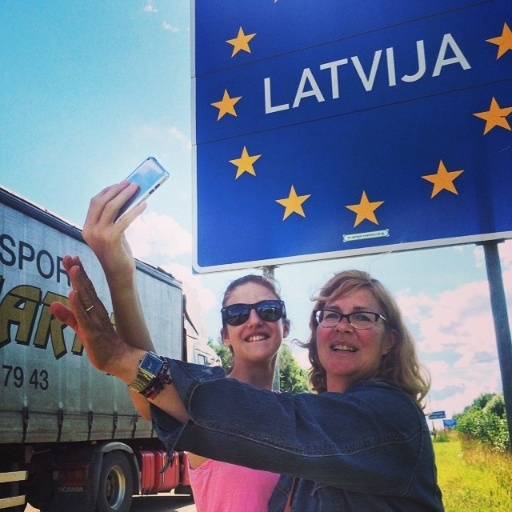hand: (72, 163, 153, 296), (49, 254, 124, 371)
